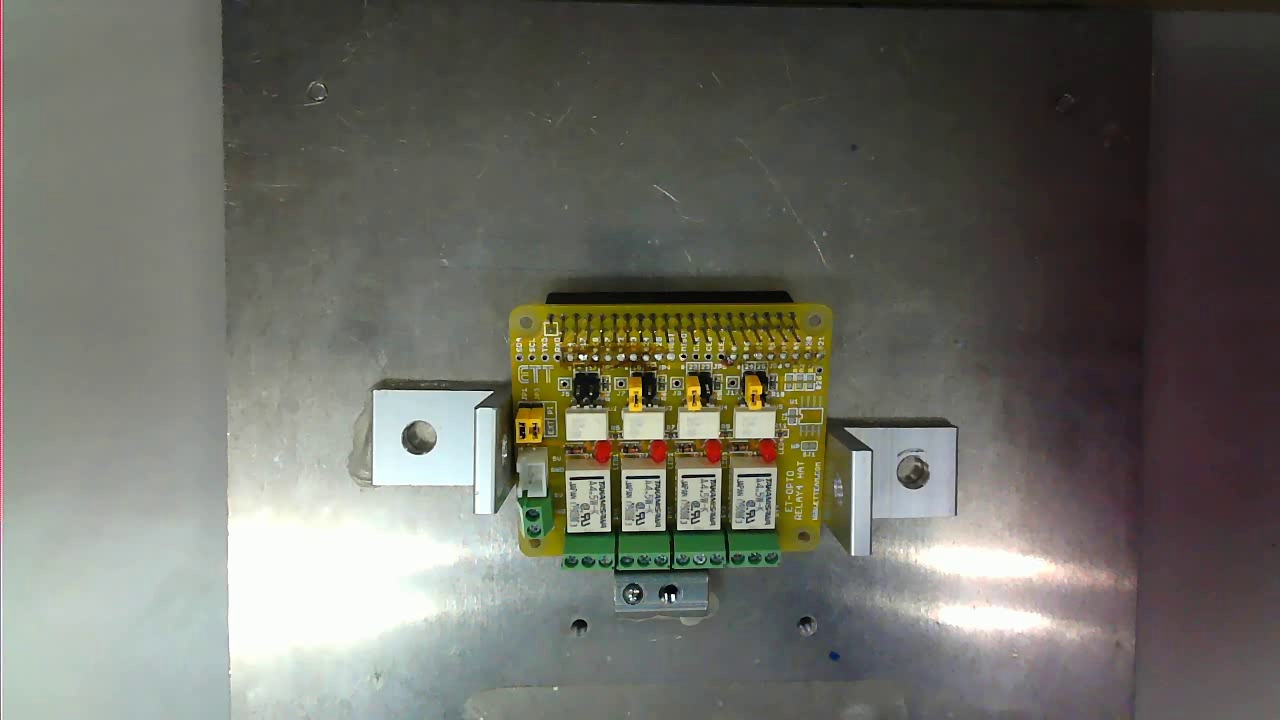can: (493, 296, 838, 575)
